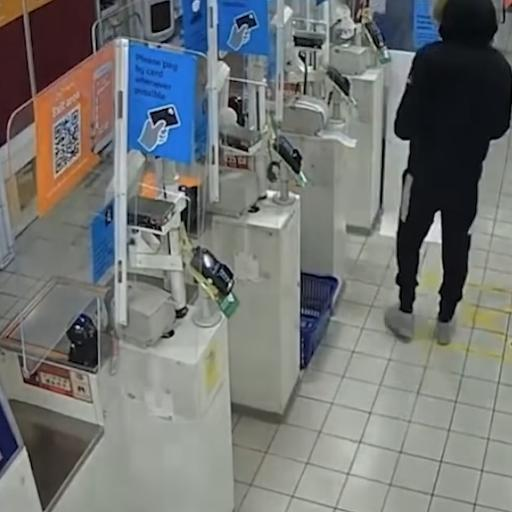Humans: (385, 1, 503, 387)
